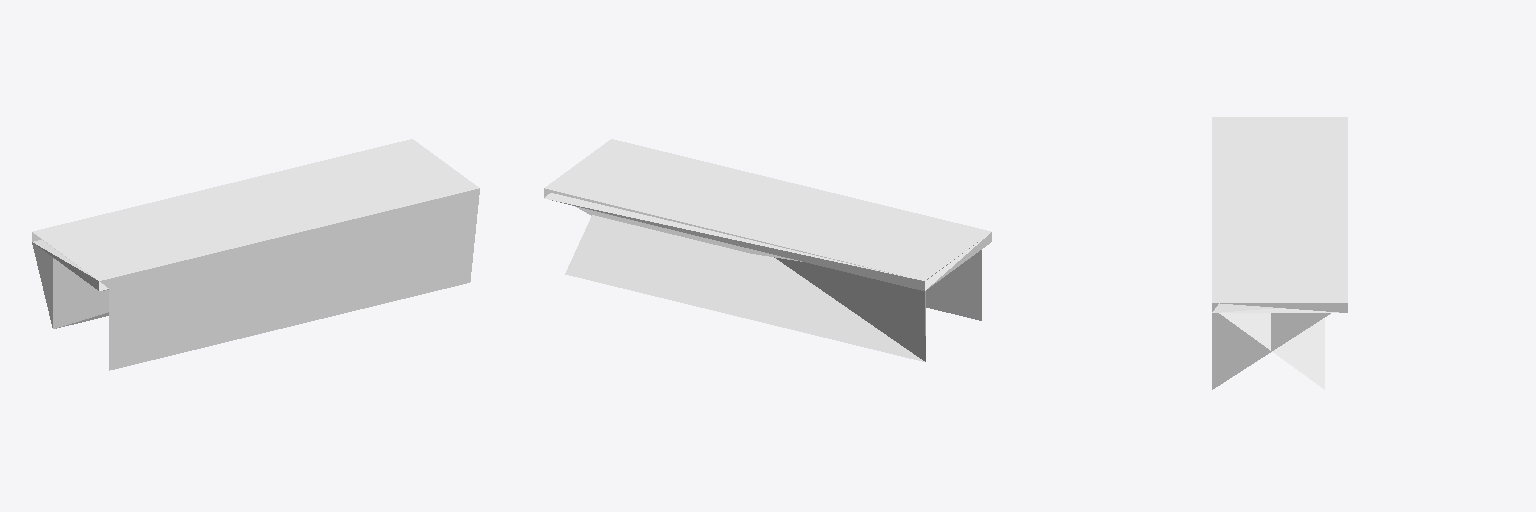
Rendered from bar.obj.
The picture shows the model from 3 angles: view 1: azimuth 30°, elevation 25°; view 2: azimuth 150°, elevation 25°; view 3: azimuth 270°, elevation 25°; orthographic projection.
Bounding box in the file's own units: 39 × 9 × 12.